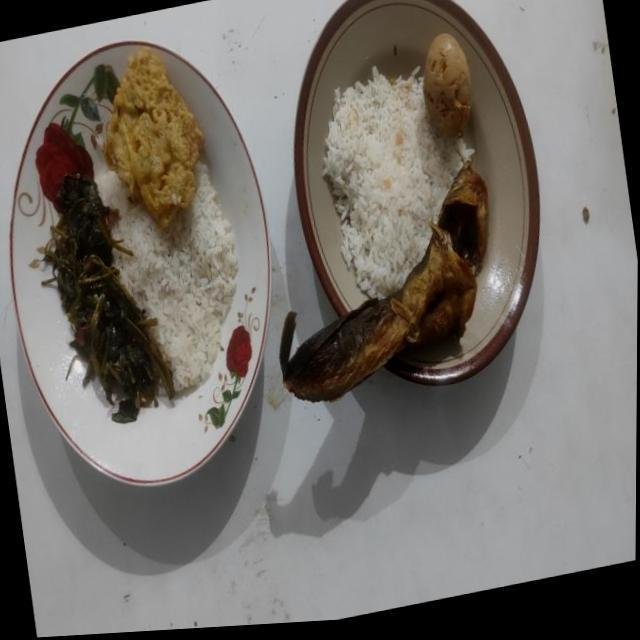nasi_putih: (323, 66, 474, 298), (98, 162, 240, 393)
tumis_kangkung: (38, 173, 174, 422)
